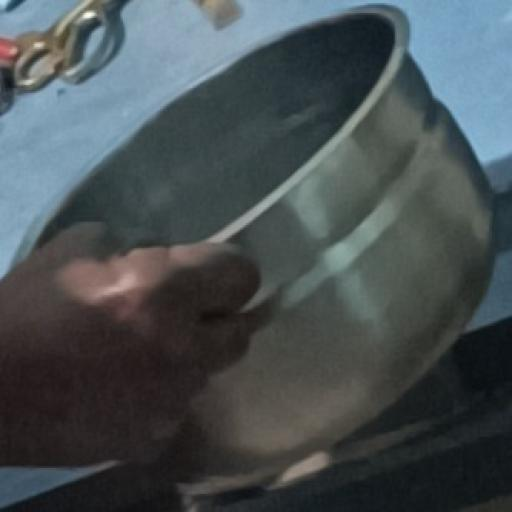vessel: (18, 7, 492, 474)
